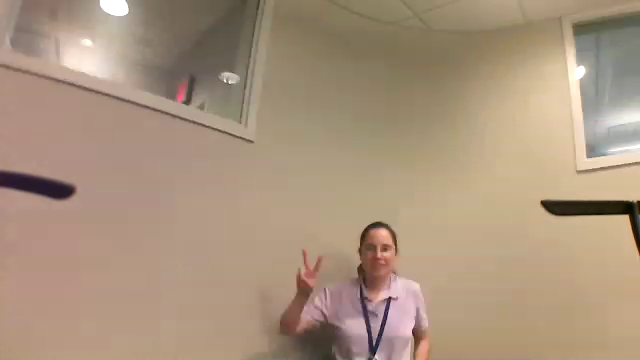peace: (288, 240, 326, 294)
